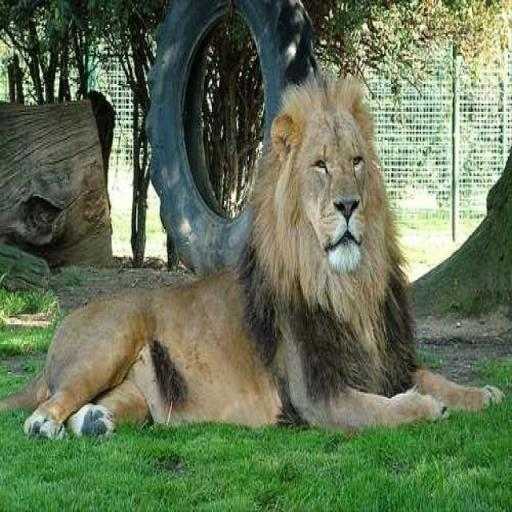Lion: (0, 69, 505, 441)
